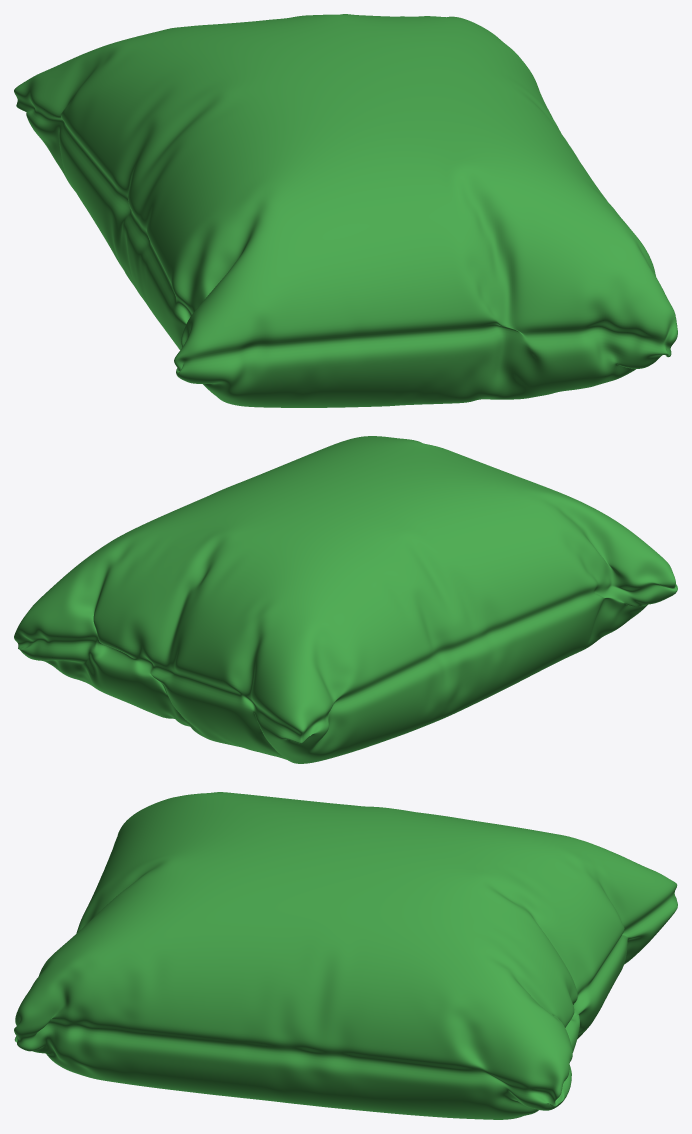
File: Pillow.fbx
The picture shows the model from 3 angles, top to bottom: view 1: azimuth 30°, elevation 25°; view 2: azimuth 150°, elevation 25°; view 3: azimuth 270°, elevation 25°; orthographic projection. The views are drawn at different scales.
Visible parts, largest first — view 1: Pillow; view 2: Pillow; view 3: Pillow.
Part boxes in pixels (x1,y1,x2,y2): Pillow: [14, 14, 677, 407]; Pillow: [14, 436, 677, 763]; Pillow: [14, 792, 677, 1119].
Bounding box in the file's own units: 0.6256 × 0.2383 × 0.7284.
